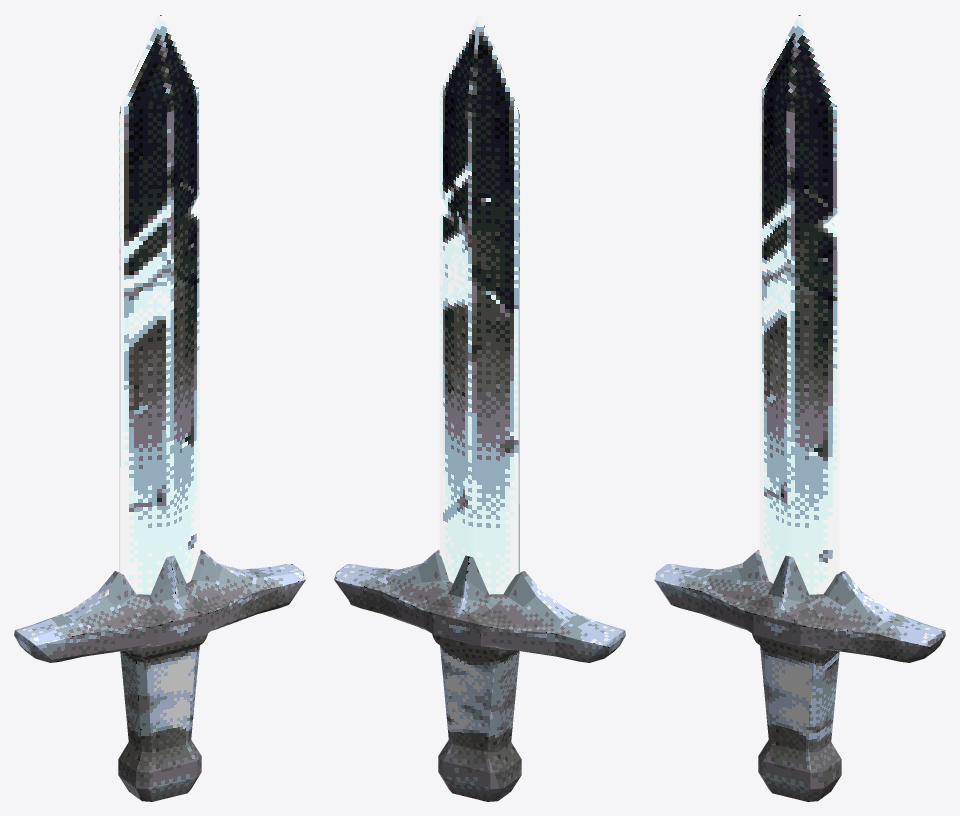
The model's file is SwordHologram.glb.
The picture shows the model from 3 angles, left to right: view 1: azimuth 30°, elevation 25°; view 2: azimuth 150°, elevation 25°; view 3: azimuth 330°, elevation 25°; orthographic projection.
Parts seen in each view (by area): view 1: Blade, Handle; view 2: Blade, Handle; view 3: Blade, Handle.
Part boxes in pixels (box(x1,y1,x2,y2)): Blade: box(119, 14, 200, 594); Handle: box(14, 550, 305, 801); Blade: box(439, 14, 520, 594); Handle: box(334, 550, 625, 801); Blade: box(759, 14, 840, 594); Handle: box(654, 550, 945, 801).
Bounding box in the file's own units: 2.13 × 5.71 × 0.6151.
Materials: 2 (2 with a texture image).
